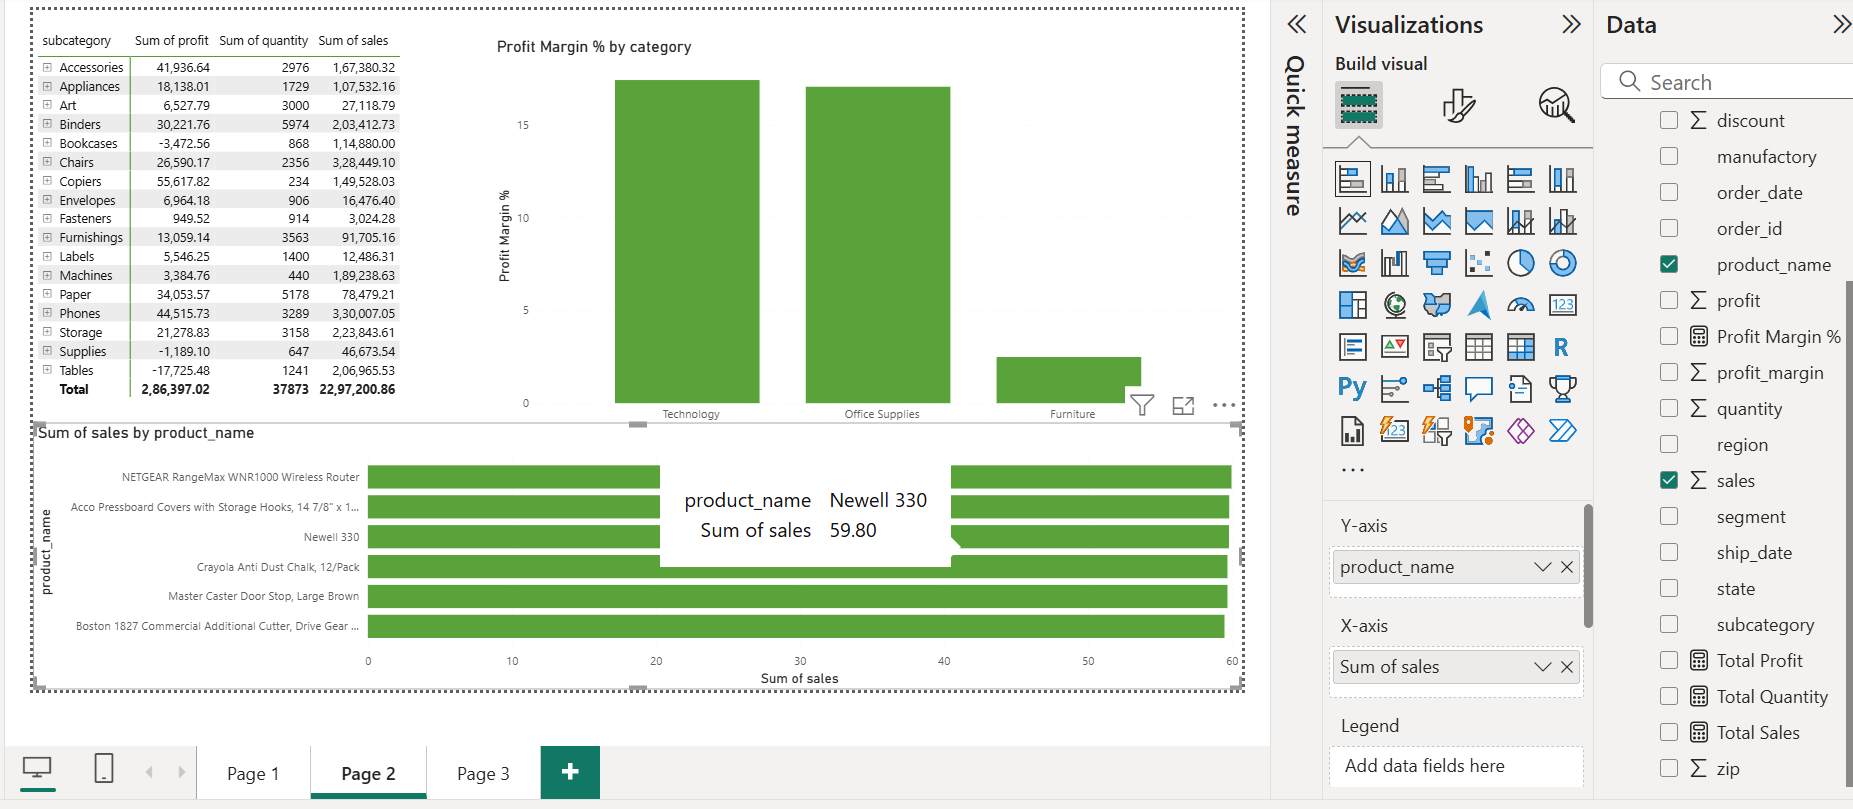

The dashboard page shown, as its layout file describes it:
{"tool":"powerbi","page":{"name":"Page 2","canvas":[1280,720],"ordinal":1},"visuals":[{"type":"pivotTable","fields":{"Rows":["superstore_dataset.subcategory","superstore_dataset.category"],"Values":["superstore_dataset.profit","superstore_dataset.quantity","superstore_dataset.sales"]},"box":[0,16.7,430,408.8],"z":0},{"type":"barChart","fields":{"Category":["superstore_dataset.product_name"],"Y":["superstore_dataset.sales"]},"box":[0,436.6,1280.3,283.1],"z":1000},{"type":"clusteredColumnChart","fields":{"Category":["superstore_dataset.category"],"Y":["superstore_dataset.Profit Margin %"]},"box":[485.7,28.6,674.6,277.8],"z":2000}]}

Visuals, with their boxes on the page's 1280x720 design canvas (x1, y1, x2, y2). These are canvas units, not pixel positions in the 1853x809 screenshot, which may show the page scaled, cropped or inside an application window:
pivotTable - superstore_dataset.subcategory x superstore_dataset.category: detection(0, 17, 430, 426)
barChart - superstore_dataset.product_name x superstore_dataset.sales: detection(0, 437, 1280, 720)
clusteredColumnChart - superstore_dataset.category x superstore_dataset.Profit Margin %: detection(486, 29, 1160, 306)
